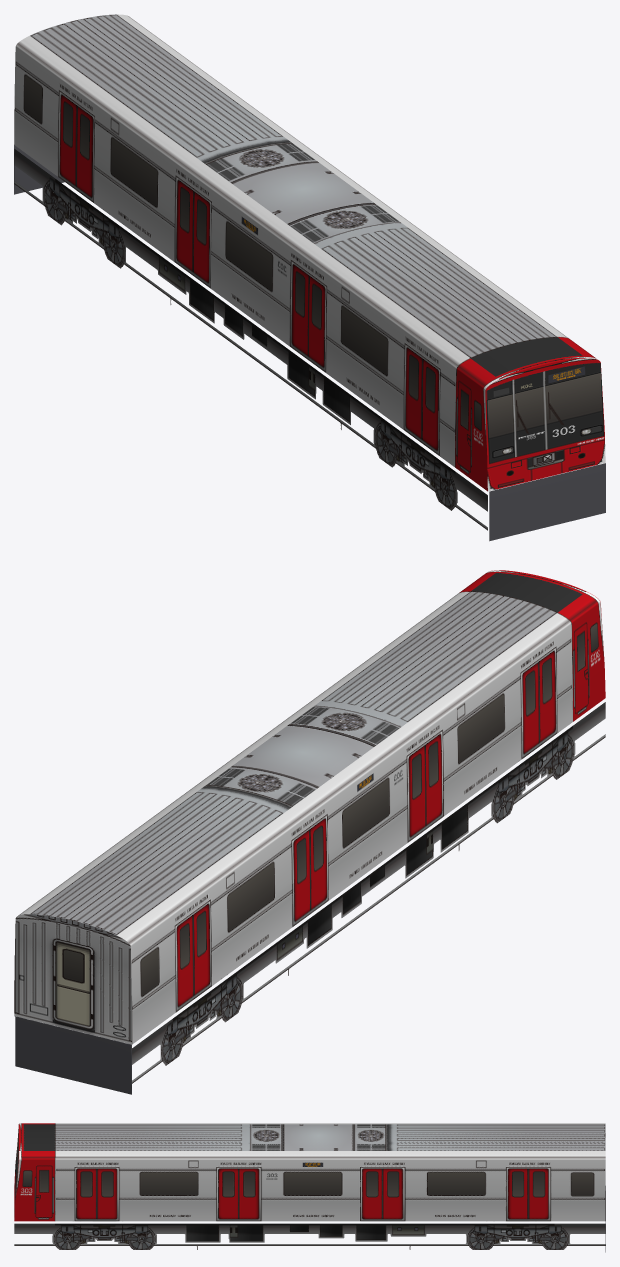
Rendered from car1.glb.
3 views of the same model, one above another, from view 1: azimuth 30°, elevation 25°; view 2: azimuth 150°, elevation 25°; view 3: azimuth 270°, elevation 25° (orthographic). The views are drawn at different scales.
Parts seen in each view (by area): view 1: car1.glb; view 2: car1.glb; view 3: car1.glb.
Boxes of the visible parts, left/top/right/bottom form: car1.glb: left=14, top=14, right=605, bottom=541; car1.glb: left=14, top=570, right=605, bottom=1094; car1.glb: left=14, top=1123, right=605, bottom=1252.
Size of the model in its own units: 2.8 by 3.62 by 19.53.
Materials: 8 (7 with a texture image).
